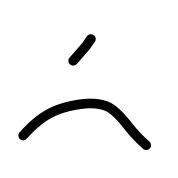i: (60, 25, 119, 80)
